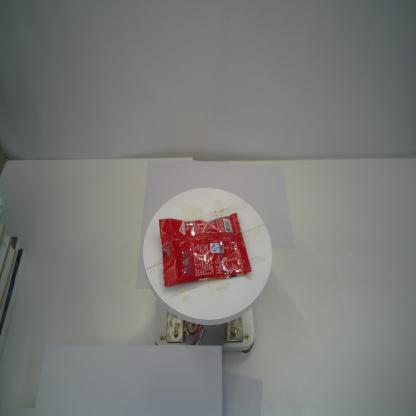Instant Drink: (158, 210, 254, 291)
